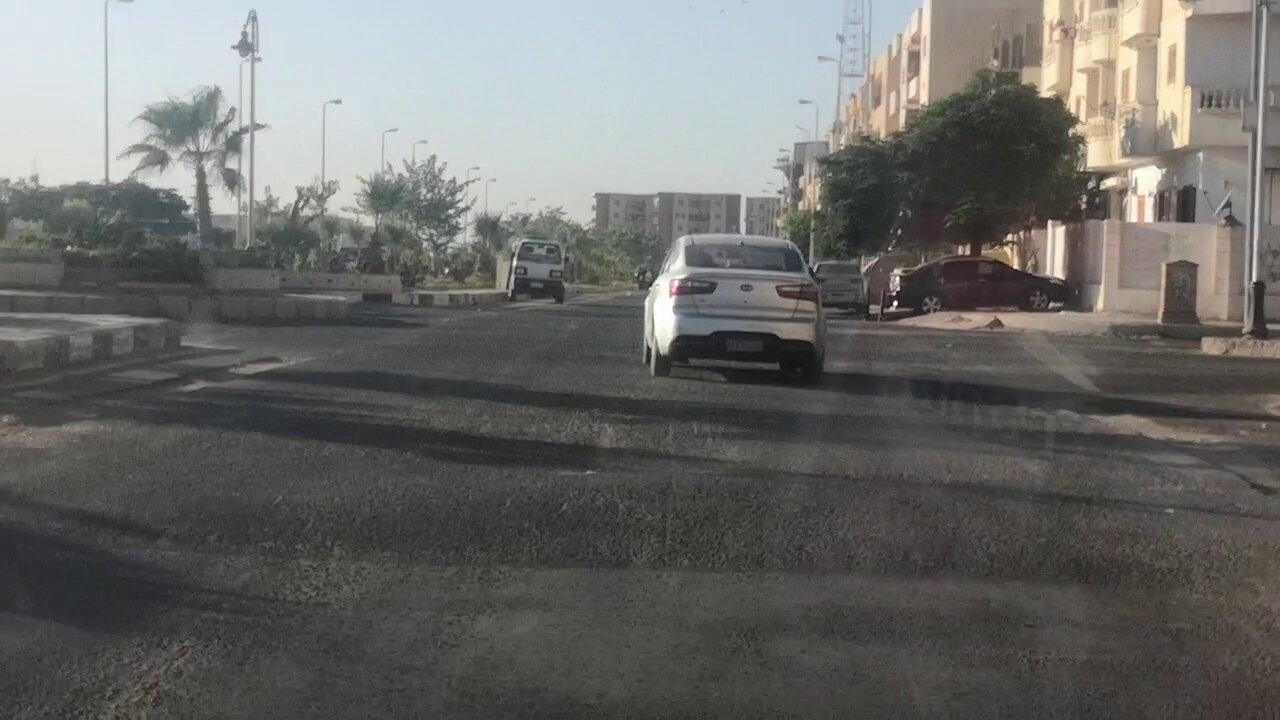Bump: (63, 438, 1280, 556)
